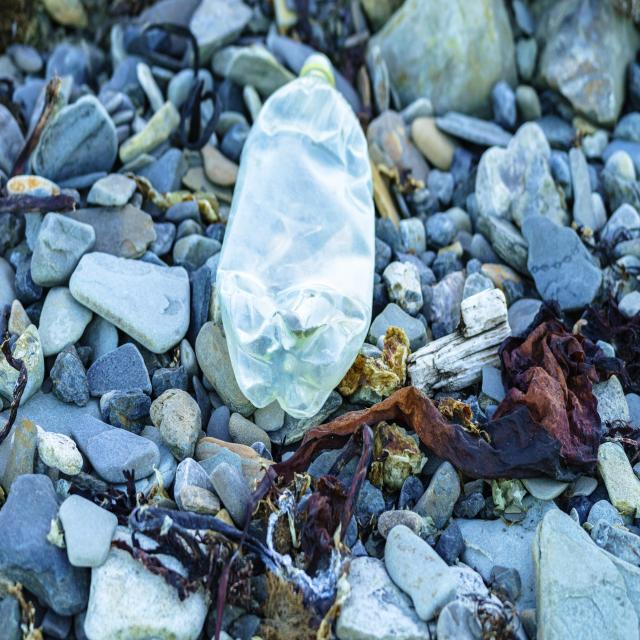litter: (216, 53, 375, 420)
